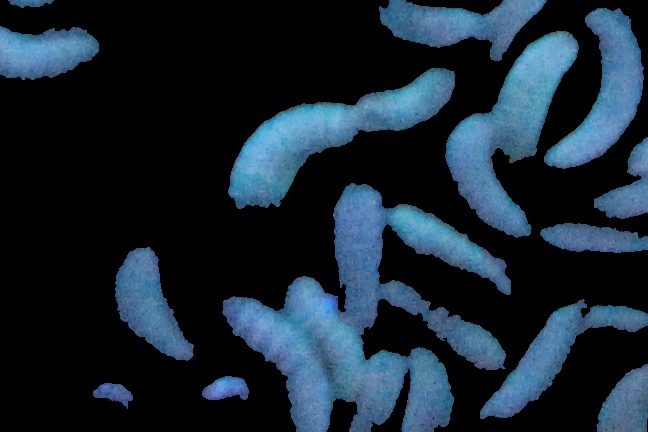larvae: (545, 6, 645, 168), (229, 96, 353, 211), (222, 298, 334, 425), (482, 300, 586, 417), (108, 238, 206, 360), (382, 280, 510, 370), (492, 31, 577, 160), (388, 205, 512, 292), (443, 118, 523, 246), (285, 275, 361, 397), (332, 181, 388, 334), (354, 55, 458, 133), (1, 23, 98, 96), (372, 1, 482, 47), (542, 220, 648, 266), (352, 347, 408, 432), (402, 343, 455, 432)
